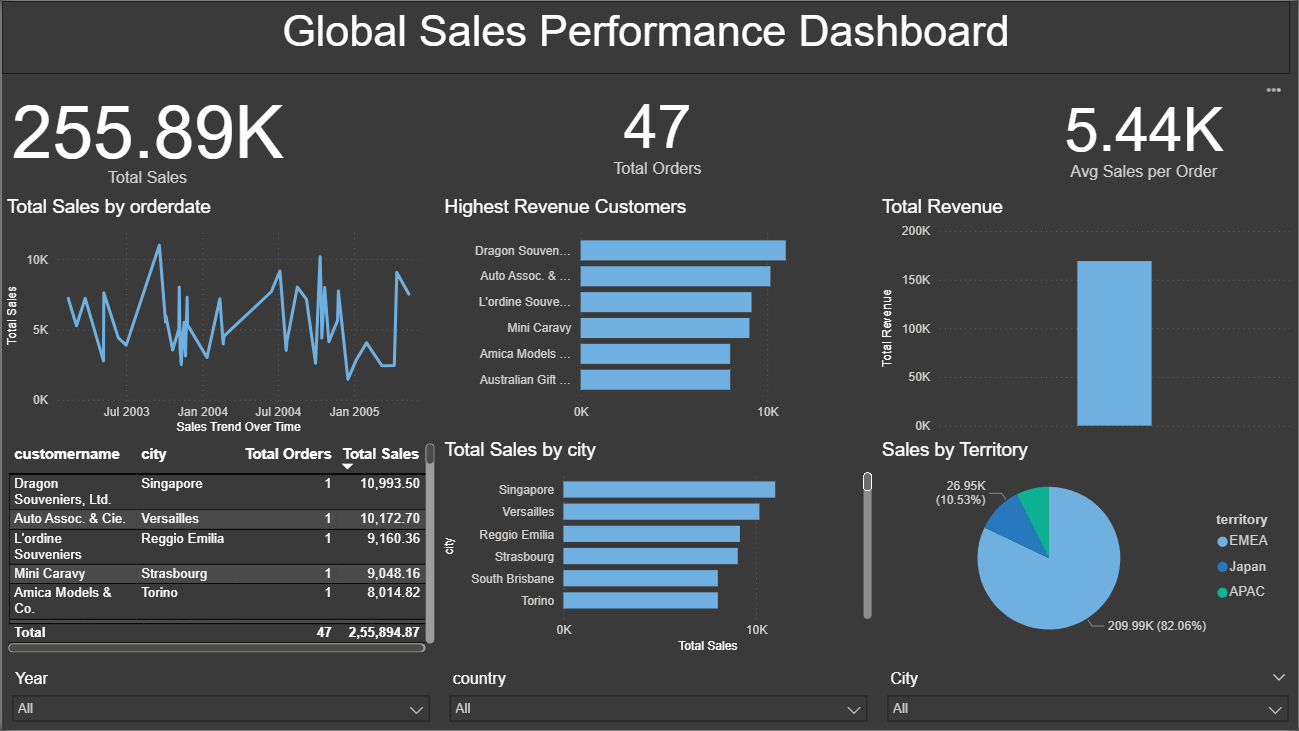

This screenshot's page, from the dashboard's own definition file:
{"tool":"powerbi","page":{"name":"Page 1","canvas":[1280,720],"ordinal":0},"visuals":[{"type":"card","fields":{"Values":["Sheet1.Total Sales"]},"box":[0,72,288,120],"z":0},{"type":"clusteredBarChart","title":"Highest Revenue Customers","fields":{"Category":["Sheet1.customername"],"Y":["Sheet1.Total Sales"]},"box":[432,192,432,240],"z":2000},{"type":"clusteredColumnChart","fields":{"Y":["Sheet1.Total Revenue"]},"box":[864,192,416,240],"z":3000},{"type":"lineChart","fields":{"Category":["Sheet1.orderdate"],"Y":["Sheet1.Total Sales"]},"box":[0,192,432,240],"z":4000},{"type":"card","fields":{"Values":["Sheet1.Total Orders"]},"box":[288,64,720,128],"z":5000},{"type":"pieChart","title":" Sales by Territory","fields":{"Category":["Sheet1.territory"],"Y":["Sheet1.Total Sales"]},"box":[864,432,408,216],"z":6000},{"type":"tableEx","fields":{"Values":["Sheet1.customername","Sheet1.city","Sheet1.Total Orders","Sheet1.Total Sales"]},"box":[0,432,432,216],"z":7000},{"type":"slicer","fields":{"Values":["Date.Year"]},"box":[0,656,432,64],"z":8000},{"type":"slicer","fields":{"Values":["Sheet1.country"]},"box":[432,656,432,64],"z":9000},{"type":"slicer","fields":{"Values":["Sheet1.city"]},"box":[864,656,416,64],"z":10000},{"type":"card","fields":{"Values":["Sheet1.Avg Sales per Order"]},"box":[984,72,288,120],"z":11000},{"type":"textbox","box":[0,0,1272,72],"z":11001},{"type":"clusteredBarChart","fields":{"Category":["Sheet1.city"],"Y":["Sheet1.Total Sales"]},"box":[432,432,432,216],"z":11002}]}

Visuals, with their boxes in screenshot pixels (x1, y1, x2, y2), scaled from the page's 1280x720 canvas onto the 1299x731 screenshot:
card - Sheet1.Total Sales: rect(0, 73, 292, 195)
"Highest Revenue Customers" clusteredBarChart: rect(438, 195, 877, 439)
clusteredColumnChart - Sheet1.Total Revenue: rect(877, 195, 1298, 439)
lineChart - Sheet1.orderdate x Sheet1.Total Sales: rect(0, 195, 438, 439)
card - Sheet1.Total Orders: rect(292, 65, 1023, 195)
" Sales by Territory" pieChart: rect(877, 439, 1291, 658)
tableEx - Sheet1.customername x Sheet1.city: rect(0, 439, 438, 658)
slicer - Date.Year: rect(0, 666, 438, 730)
slicer - Sheet1.country: rect(438, 666, 877, 730)
slicer - Sheet1.city: rect(877, 666, 1298, 730)
card - Sheet1.Avg Sales per Order: rect(999, 73, 1291, 195)
textbox: rect(0, 0, 1291, 73)
clusteredBarChart - Sheet1.city x Sheet1.Total Sales: rect(438, 439, 877, 658)
